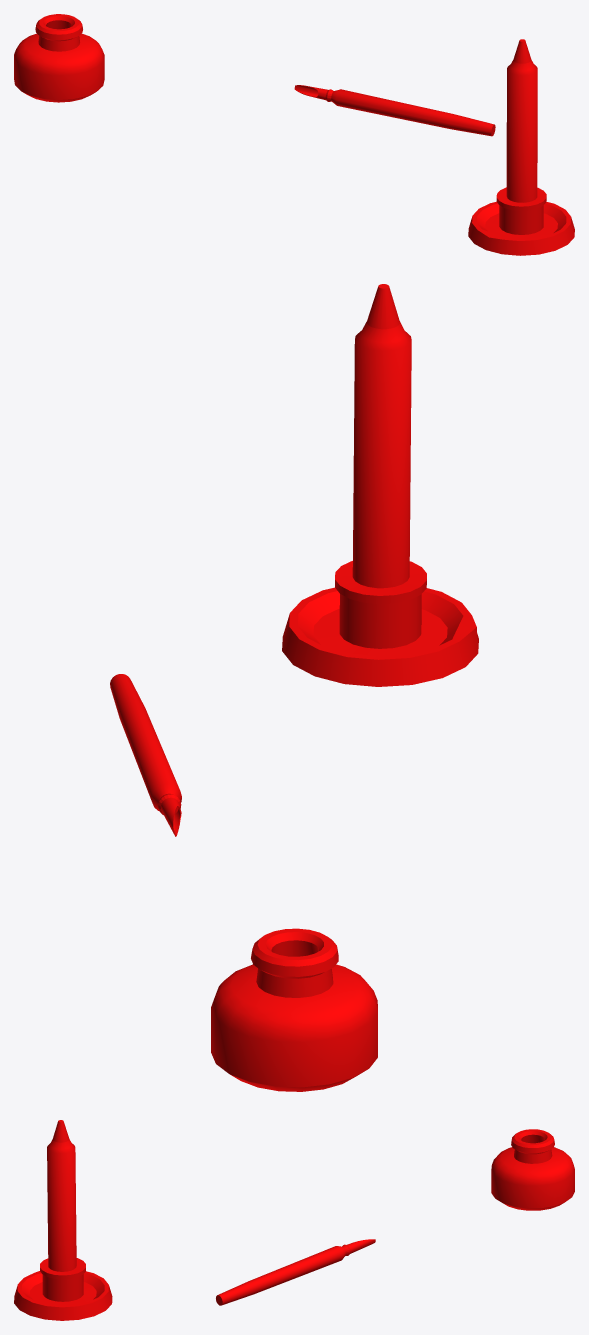
Rendered from wthreeguys.fbx.
3 views of the same model, one above another, from view 1: azimuth 30°, elevation 25°; view 2: azimuth 150°, elevation 25°; view 3: azimuth 270°, elevation 25° (orthographic). The views are drawn at different scales.
Visible parts, largest first — view 1: Object933, Object935, Object934; view 2: Object933, Object935, Object934; view 3: Object933, Object935, Object934.
Boxes of the visible parts, x1,y1,x2,y2 form: Object933: (468,39,574,255); Object935: (14,14,104,102); Object934: (294,85,495,136); Object933: (282,284,478,686); Object935: (211,928,377,1091); Object934: (110,674,181,836); Object933: (14,1120,112,1320); Object935: (491,1129,574,1210); Object934: (216,1239,375,1305).
Size of the model in its own units: 18.18 by 10.93 by 31.08.
